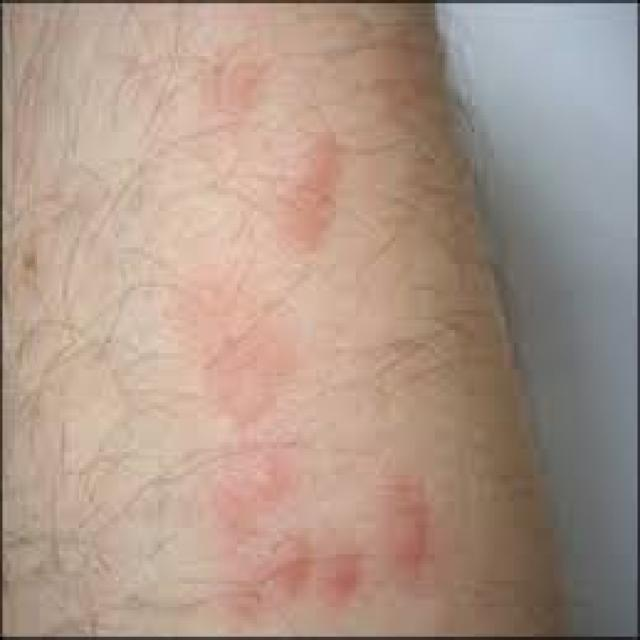kan emici bocekler: (325, 473, 456, 611), (201, 278, 298, 413), (218, 459, 298, 615), (286, 144, 348, 246), (209, 60, 267, 147)
